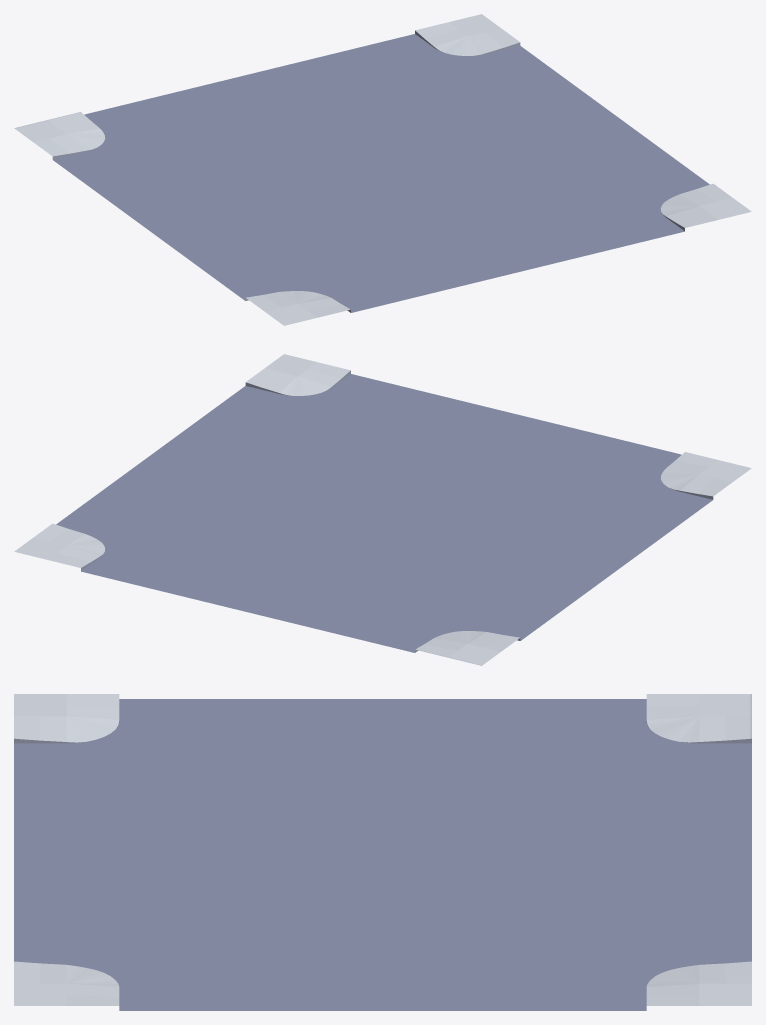
File: street_intersection.glb
3 renders of one model, top to bottom at view 1: azimuth 30°, elevation 25°; view 2: azimuth 150°, elevation 25°; view 3: azimuth 270°, elevation 25°, orthographic. The views are drawn at different scales.
Parts seen in each view (by area): view 1: Street, Sidewalk; view 2: Street, Sidewalk; view 3: Street, Sidewalk.
Boxes of the visible parts, x1=… form: Street: x1=53, y1=34, x2=709, y2=312; Sidewalk: x1=14, y1=14, x2=751, y2=325; Street: x1=56, y1=374, x2=712, y2=652; Sidewalk: x1=14, y1=354, x2=751, y2=665; Street: x1=14, y1=699, x2=751, y2=1010; Sidewalk: x1=14, y1=694, x2=751, y2=1005.
Size of the model in its own units: 14 by 0.1 by 14.
Materials: 1 (1 with a texture image).
